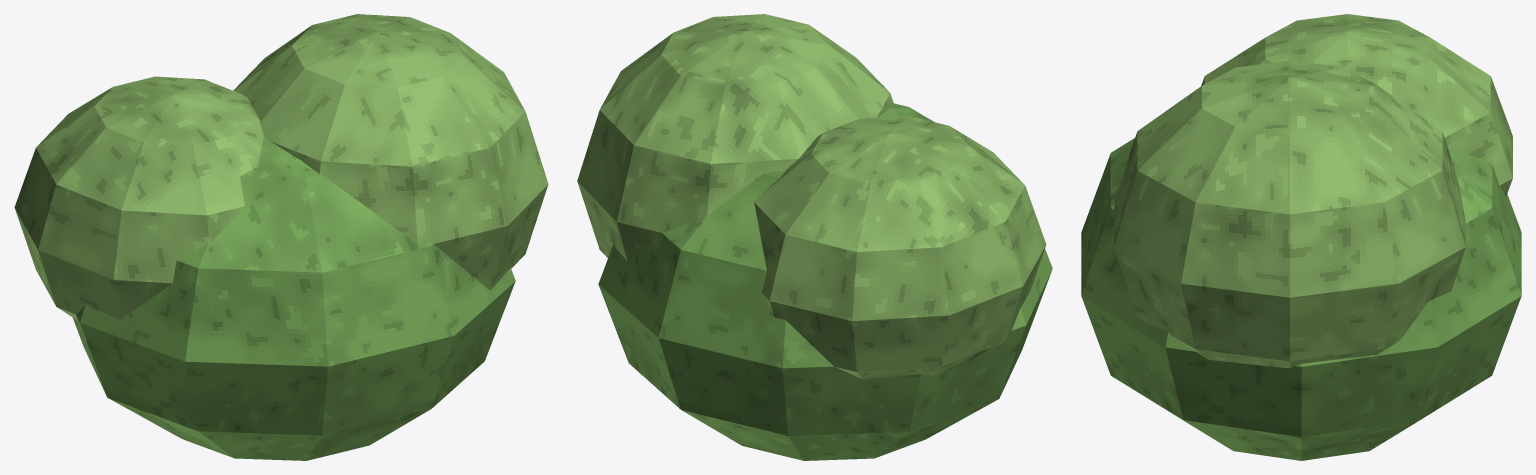
Rendered from shrubB.glb.
3 renders of one model, left to right at view 1: azimuth 30°, elevation 25°; view 2: azimuth 150°, elevation 25°; view 3: azimuth 270°, elevation 25°, orthographic. The views are drawn at different scales.
Parts seen in each view (by area): view 1: shrub; view 2: shrub; view 3: shrub.
Part boxes in pixels (x1=…): shrub: x1=14, y1=14, x2=548, y2=460; shrub: x1=577, y1=14, x2=1052, y2=460; shrub: x1=1081, y1=14, x2=1521, y2=460.
Bounding box in the file's own units: 0.94 × 0.76 × 0.7608.
Materials: 2 (2 with a texture image).
